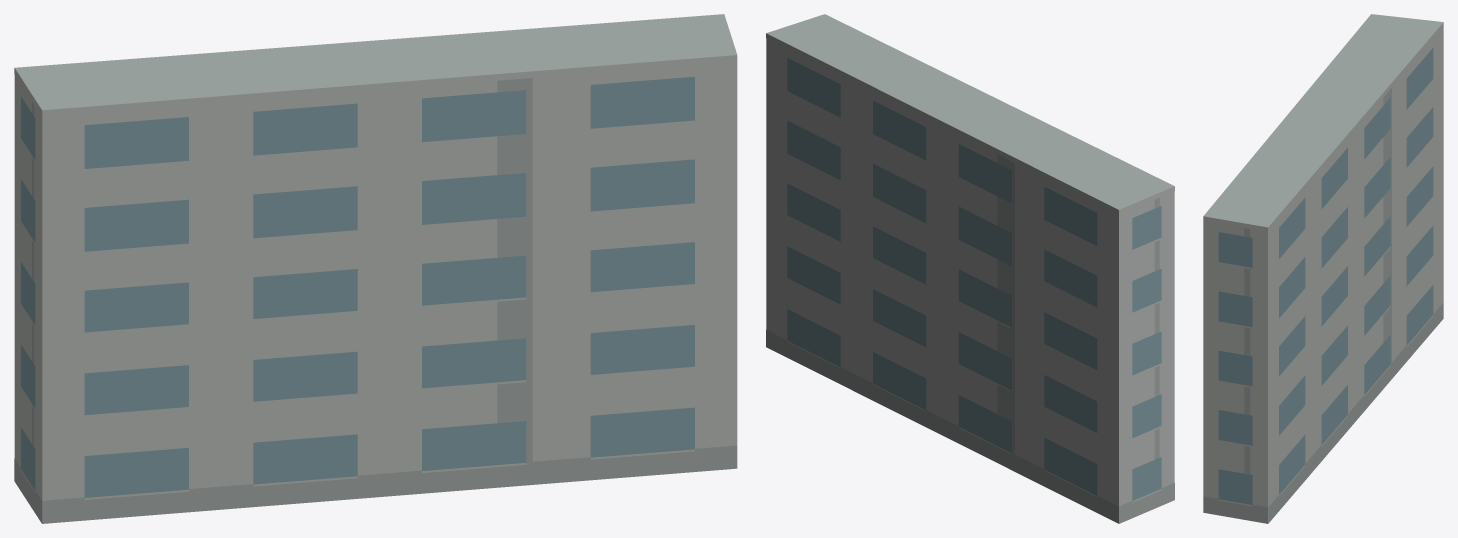
The model's file is survey-upis-32510250.glb.
The picture shows the model from 3 angles, left to right: view 1: azimuth 30°, elevation 25°; view 2: azimuth 150°, elevation 25°; view 3: azimuth 270°, elevation 25°; orthographic projection. The views are drawn at different scales.
Visible parts, largest first — view 1: survey-upis-32510250.tmp; view 2: survey-upis-32510250.tmp; view 3: survey-upis-32510250.tmp.
Boxes of the visible parts, bbox=[...] form: survey-upis-32510250.tmp: bbox=[14, 14, 737, 523]; survey-upis-32510250.tmp: bbox=[766, 14, 1174, 523]; survey-upis-32510250.tmp: bbox=[1203, 14, 1443, 523].
Size of the model in its own units: 23.56 by 15.25 by 11.22.
